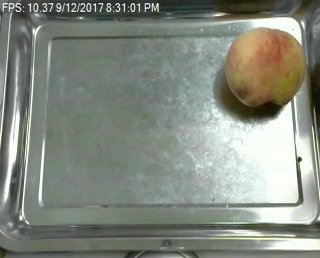Peach: (224, 25, 306, 107)
